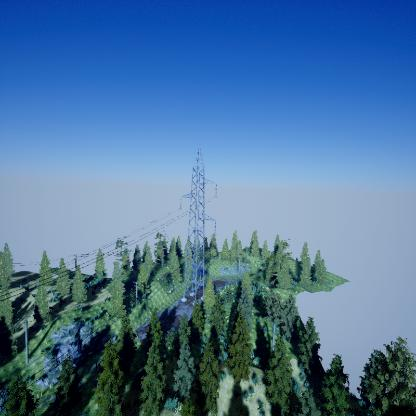tower: (176, 145, 220, 308)
